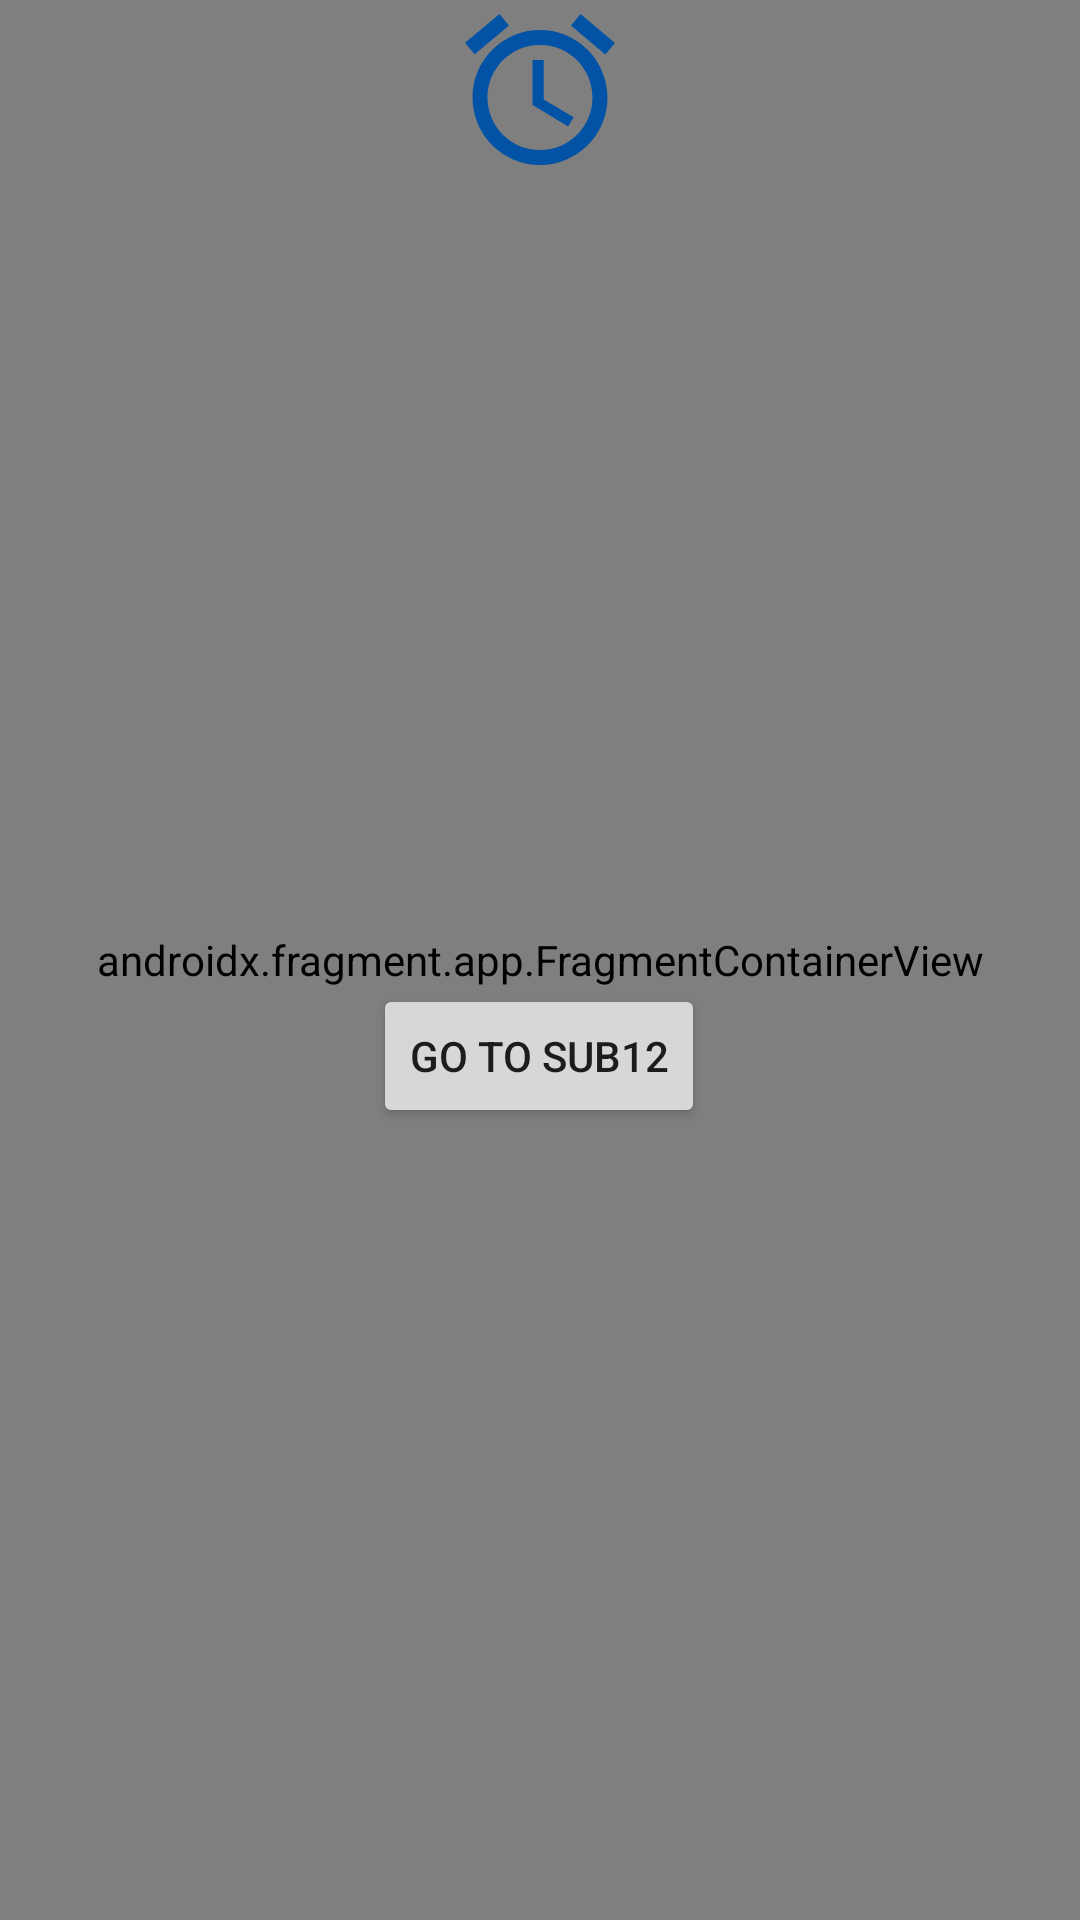

Screen size 1080 x 1920. Icon name, then its box in pixels as (x1, y1, x2, y2):
access alarm: (465, 14, 615, 165)
